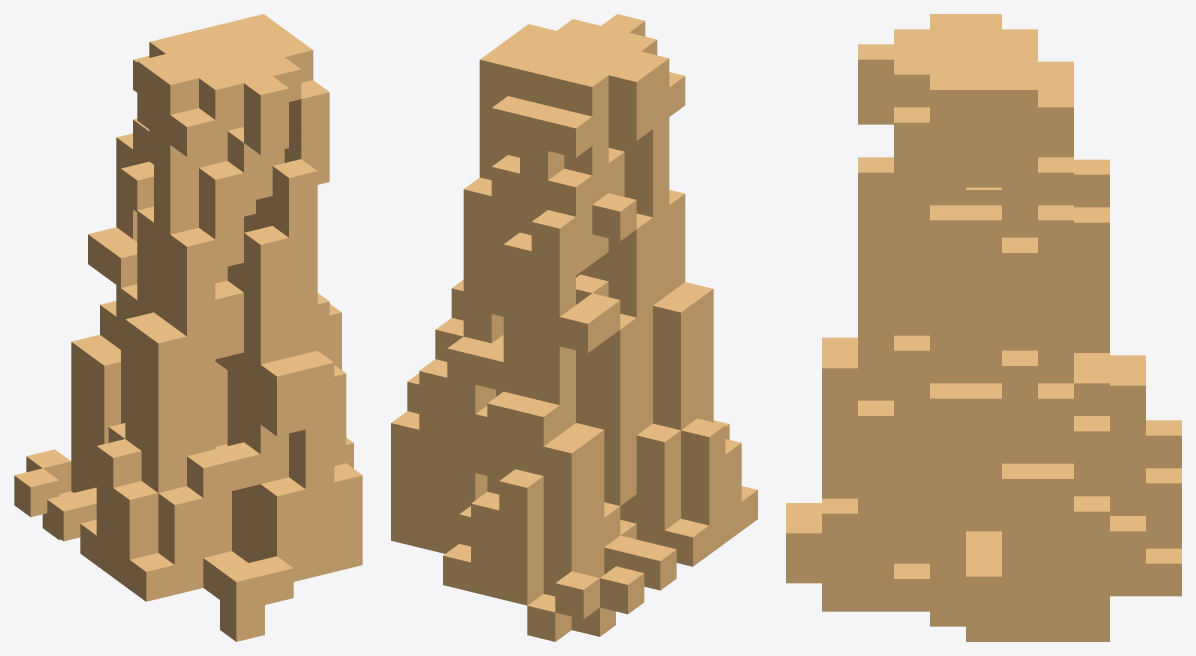
The model's file is voxel_Desert Pillar.glb.
3 views of the same model, side by side, from view 1: azimuth 30°, elevation 25°; view 2: azimuth 150°, elevation 25°; view 3: azimuth 270°, elevation 25° (orthographic). The views are drawn at different scales.
Visible parts, largest first — view 1: Node; view 2: Node; view 3: Node.
Part boxes in pixels (x1,y1,x2,y2): Node: [14, 14, 362, 641]; Node: [391, 14, 757, 641]; Node: [786, 14, 1181, 641].
Size of the model in its own units: 0.2801 by 0.5291 by 0.3424.
